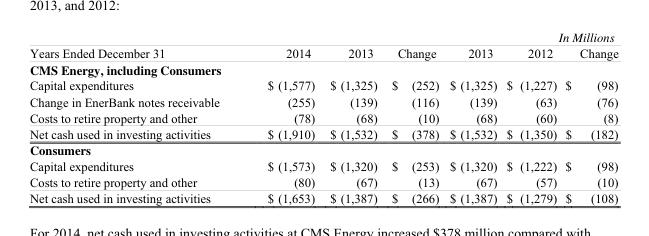table: (28, 29, 617, 204)
table column: (28, 29, 242, 204), (242, 29, 321, 204), (321, 29, 383, 204), (383, 29, 443, 204), (501, 29, 560, 204), (443, 29, 501, 204), (560, 29, 617, 204)
table column header: (28, 29, 617, 60)
table projected row header: (28, 60, 617, 78), (28, 140, 617, 158)
table row: (28, 60, 617, 78), (28, 140, 617, 158), (28, 29, 617, 45), (28, 93, 617, 109), (28, 109, 617, 125), (28, 173, 617, 189), (28, 45, 617, 60), (28, 78, 617, 93), (28, 125, 617, 140), (28, 158, 617, 173), (28, 189, 617, 204)
table spanning cell: (28, 29, 242, 60), (242, 29, 321, 60), (321, 29, 383, 60), (383, 29, 443, 60), (501, 29, 617, 45), (443, 29, 501, 60)
